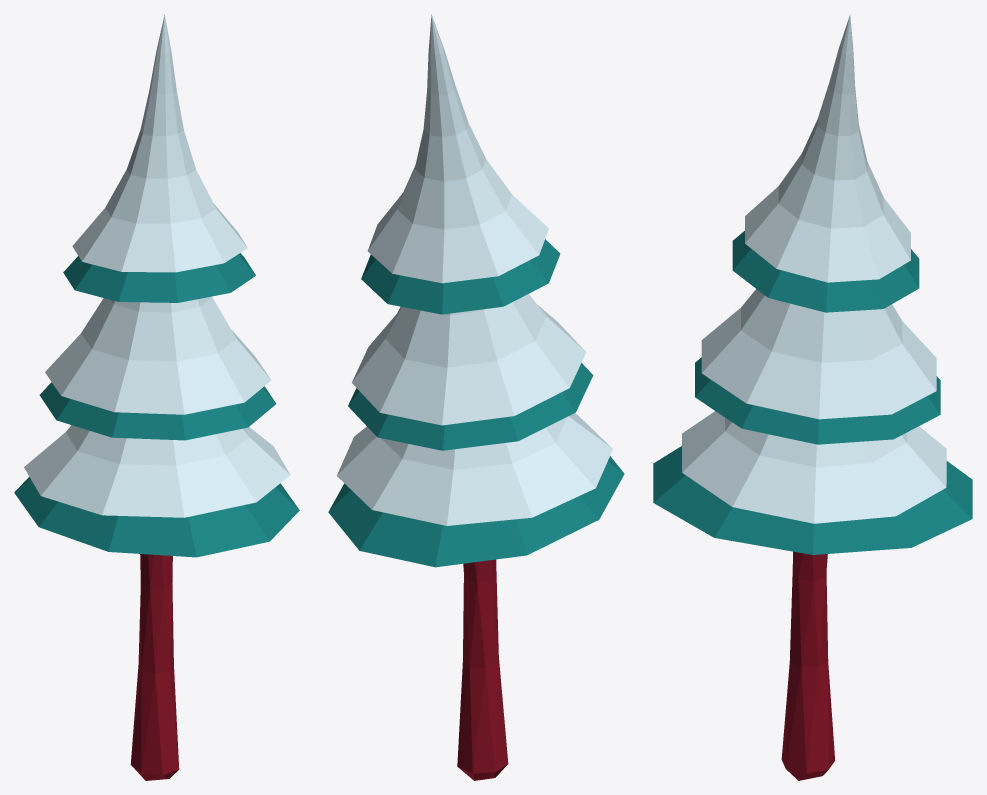
Rendered from tree-asset-old.fbx.
3 renders of one model, left to right at view 1: azimuth 30°, elevation 25°; view 2: azimuth 150°, elevation 25°; view 3: azimuth 270°, elevation 25°, orthographic. The views are drawn at different scales.
Visible parts, largest first — view 1: Tree; view 2: Tree; view 3: Tree.
Part boxes in pixels (x1=…): Tree: x1=14, y1=14, x2=299, y2=780; Tree: x1=328, y1=14, x2=624, y2=780; Tree: x1=653, y1=14, x2=972, y2=780.
Size of the model in its own units: 504 by 1510 by 563.
